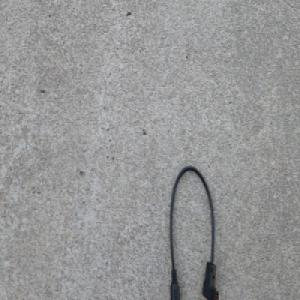Wire: (167, 162, 219, 300)
